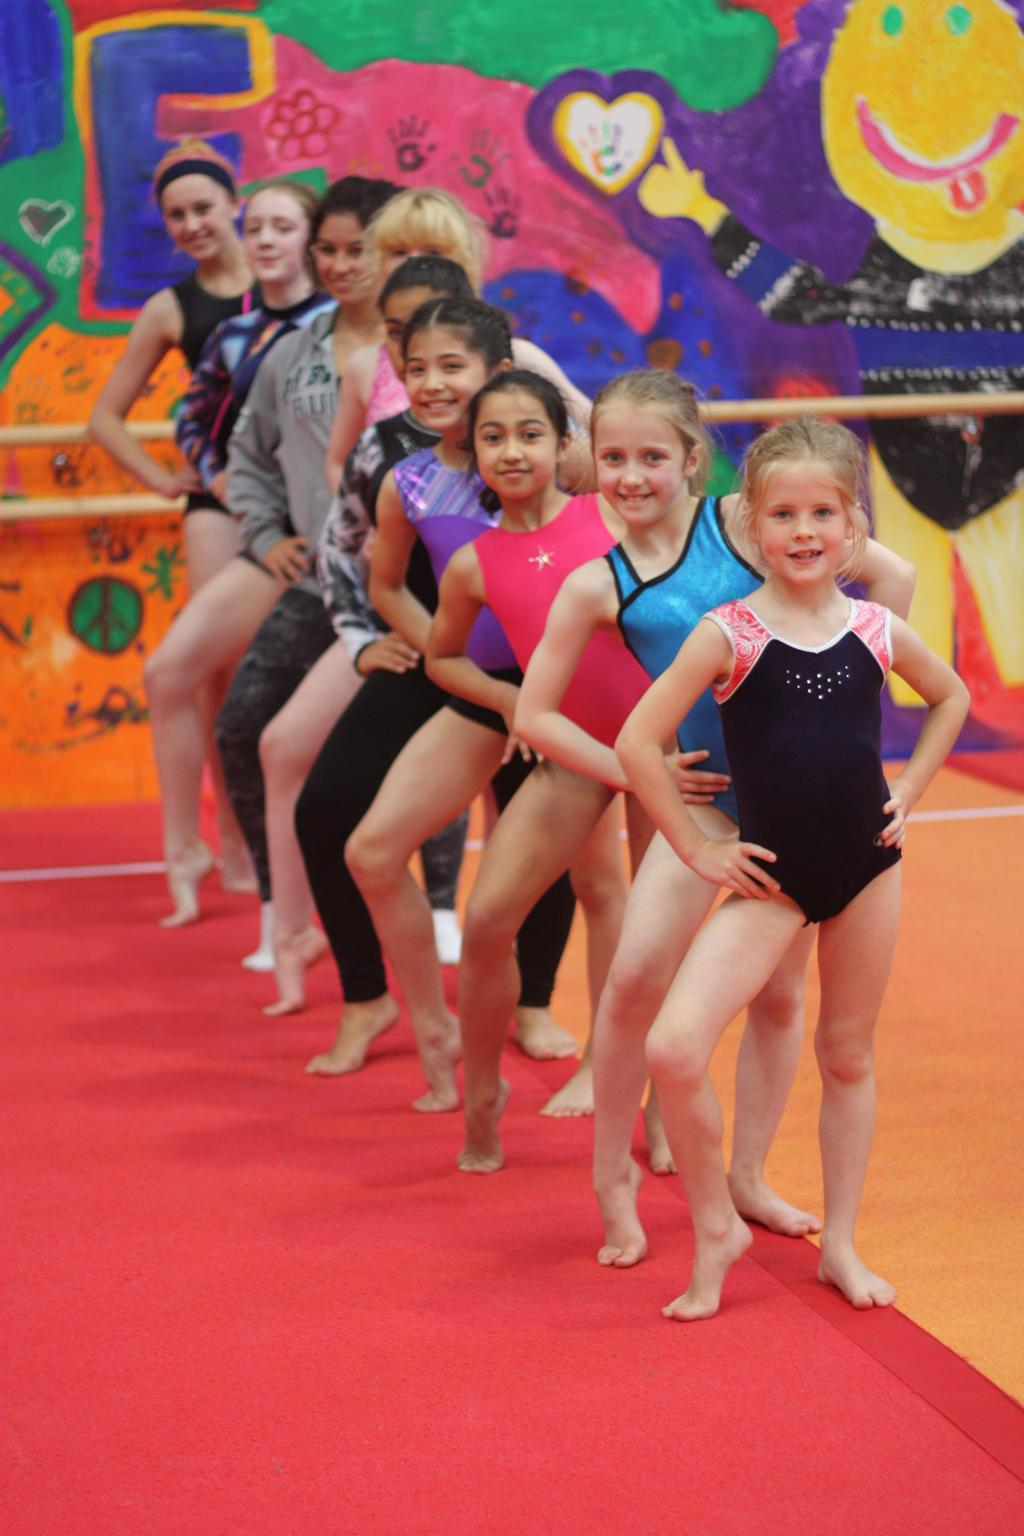face: (760, 462, 850, 585), (598, 402, 679, 522), (474, 396, 552, 501), (372, 219, 444, 319), (321, 207, 384, 309), (411, 333, 474, 423), (390, 276, 450, 366), (246, 195, 306, 282), (168, 174, 225, 261)
